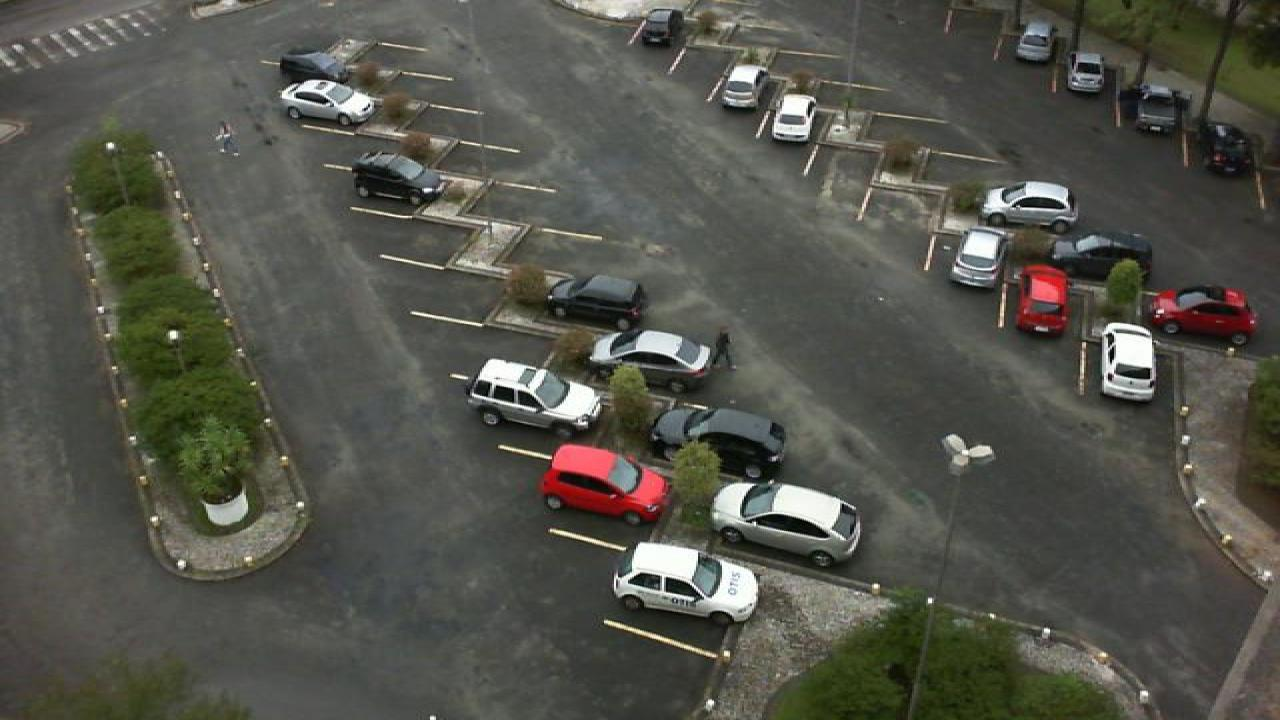Car: (708, 479, 862, 568), (612, 542, 760, 624), (538, 442, 670, 528), (648, 404, 788, 484), (464, 359, 604, 439), (586, 330, 714, 393), (1144, 284, 1260, 348), (542, 272, 648, 331), (350, 150, 446, 207), (980, 180, 1078, 235), (1052, 232, 1152, 284), (1098, 320, 1158, 402), (278, 79, 376, 127), (1014, 262, 1070, 338), (948, 227, 1010, 288), (1200, 122, 1256, 178), (278, 47, 354, 87), (1134, 84, 1192, 134), (770, 92, 816, 143), (638, 5, 684, 48), (720, 64, 760, 109), (1014, 20, 1056, 62), (1066, 52, 1108, 93)
